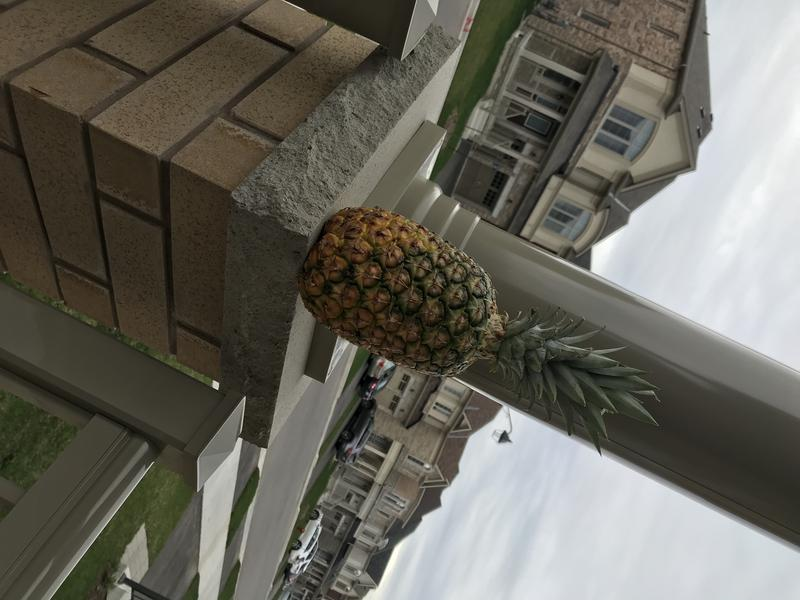pineapple: (291, 196, 683, 450)
